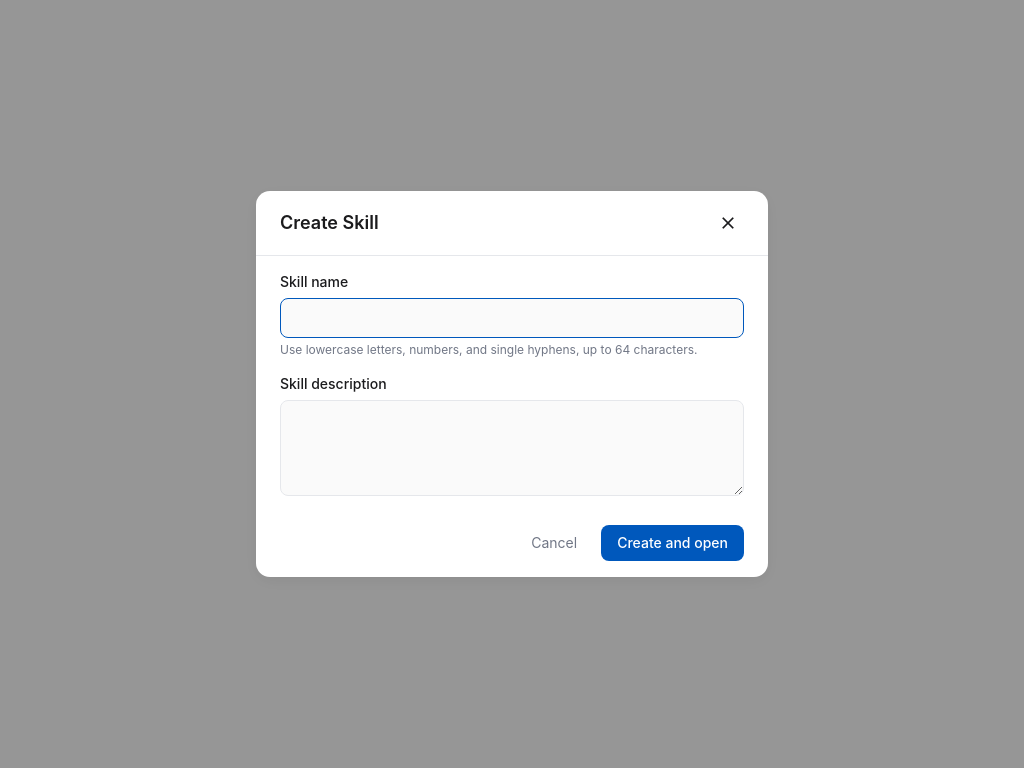
SkillCreateModal › rejects invalid names before confirming
Type "Bad Name" into the field labelled "Skill name".
click(512, 318); type("Bad Name")  # box left=280, top=298, right=744, bottom=338
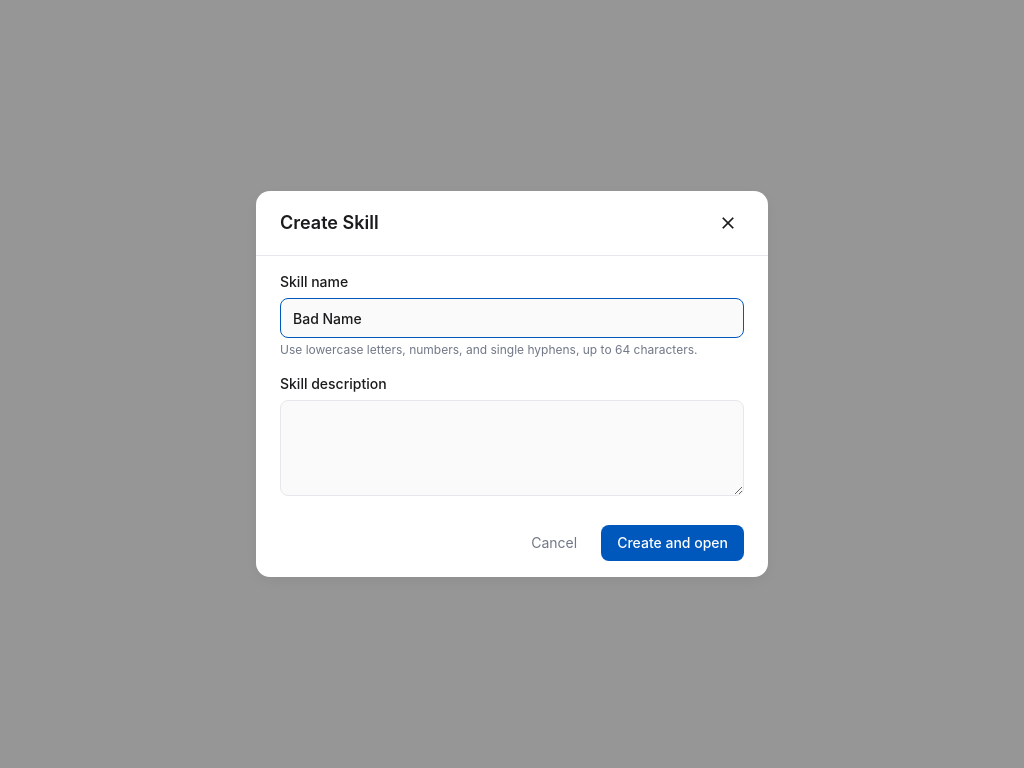
Type "Description" into the text box labelled "Skill description".
click(512, 448); type("Description")  # box left=280, top=400, right=744, bottom=496
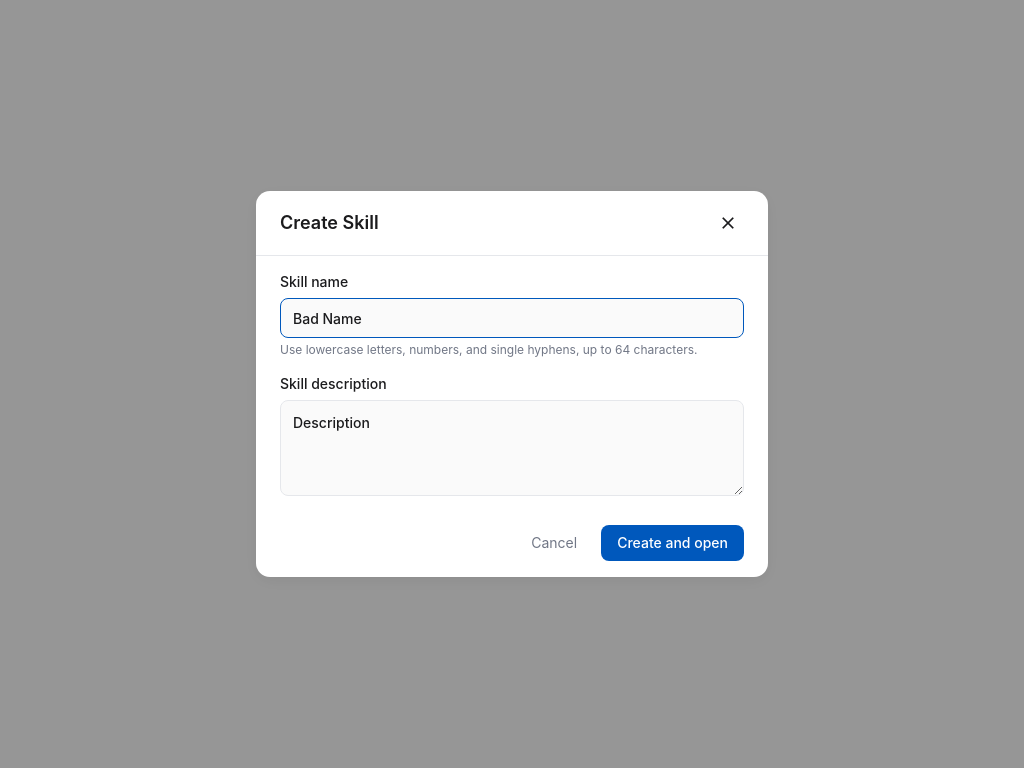
Click the button "Create and open".
click(673, 543)  # box left=601, top=525, right=744, bottom=561
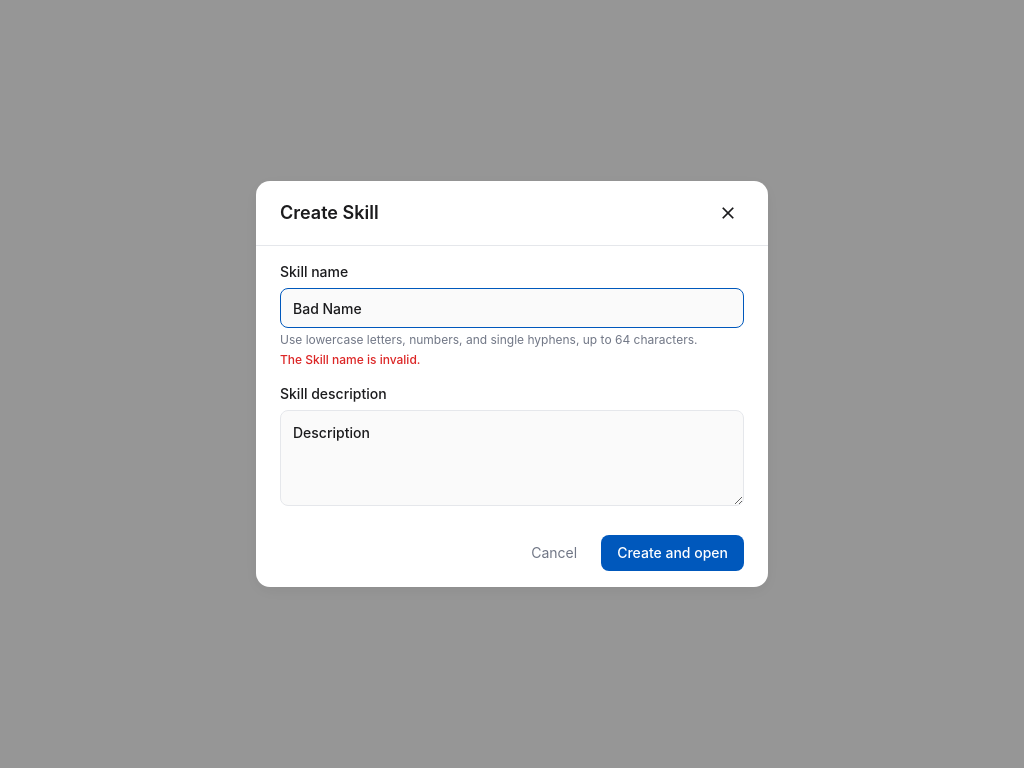
Result: the text "The Skill name is invalid." is shown at left=280, top=352, right=420, bottom=367
